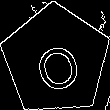O_N: (27, 28, 85, 92)
